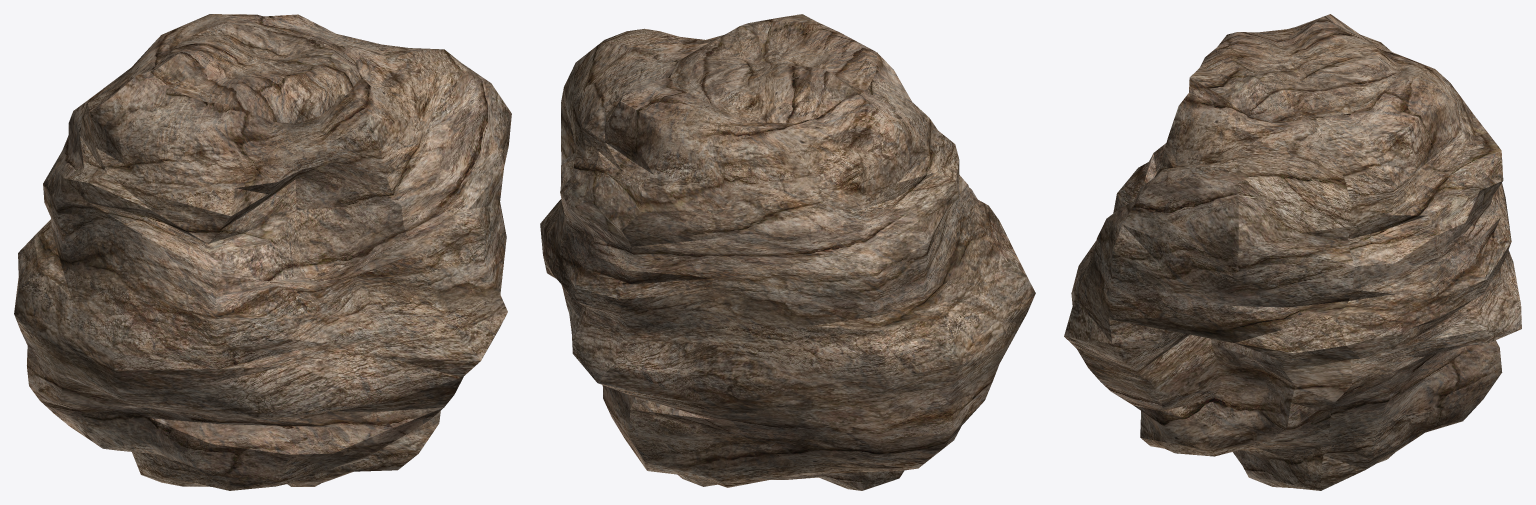
File: RockLargeRound_LOD1.obj
The picture shows the model from 3 angles, left to right: view 1: azimuth 30°, elevation 25°; view 2: azimuth 150°, elevation 25°; view 3: azimuth 270°, elevation 25°; orthographic projection. The views are drawn at different scales.
Visible parts, largest first — view 1: RockLargeRound_LOD1; view 2: RockLargeRound_LOD1; view 3: RockLargeRound_LOD1.
Boxes of the visible parts, left/top/right/bottom form: RockLargeRound_LOD1: left=14, top=14, right=511, bottom=490; RockLargeRound_LOD1: left=540, top=14, right=1035, bottom=490; RockLargeRound_LOD1: left=1064, top=14, right=1521, bottom=490.
Bounding box in the file's own units: 5.38 × 4.87 × 5.06.
